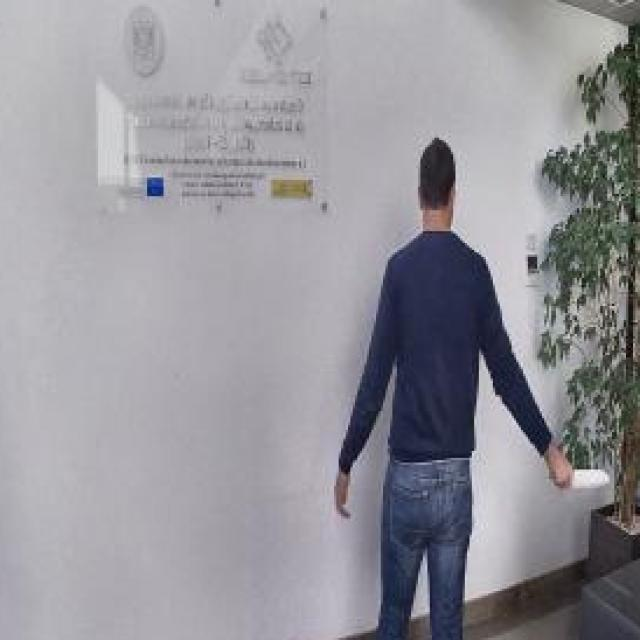knife: (544, 462, 614, 493)
